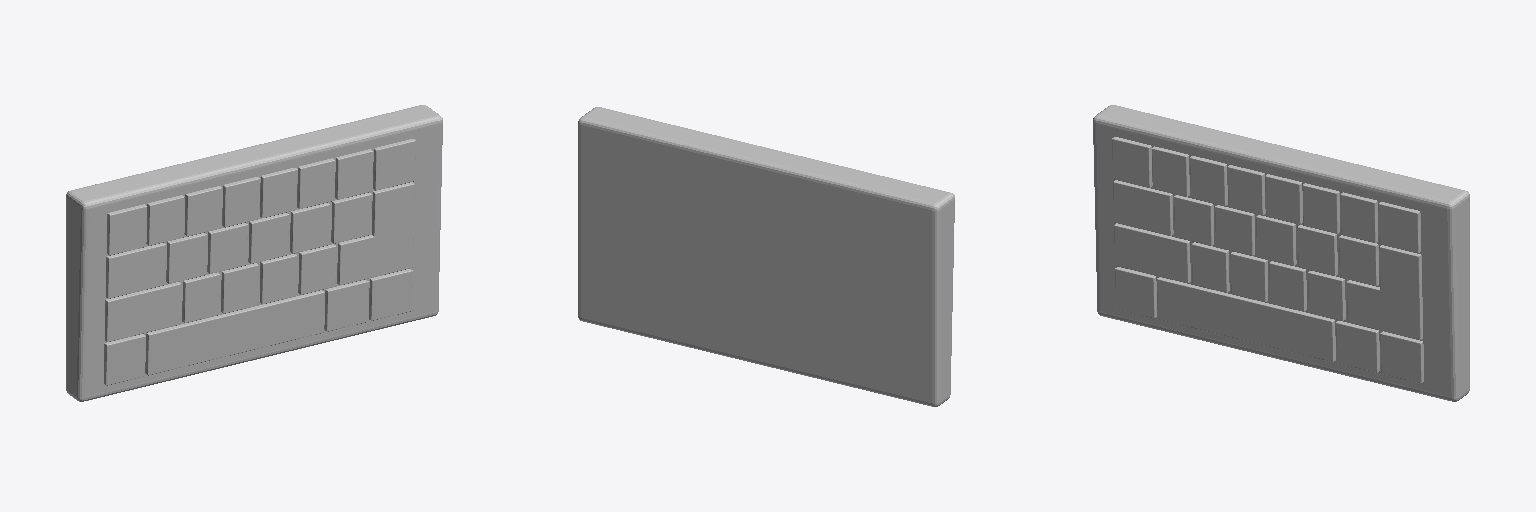
Rendered from keyboard.obj.
The picture shows the model from 3 angles: view 1: azimuth 30°, elevation 25°; view 2: azimuth 150°, elevation 25°; view 3: azimuth 330°, elevation 25°; orthographic projection.
Visible parts, largest first — view 1: keyboard001; view 2: keyboard001; view 3: keyboard001.
Boxes of the visible parts, <box> form: keyboard001: <box>66,105,442,401</box>; keyboard001: <box>578,107,954,406</box>; keyboard001: <box>1093,105,1469,401</box>.
Size of the model in its own units: 145 by 78 by 15.55.